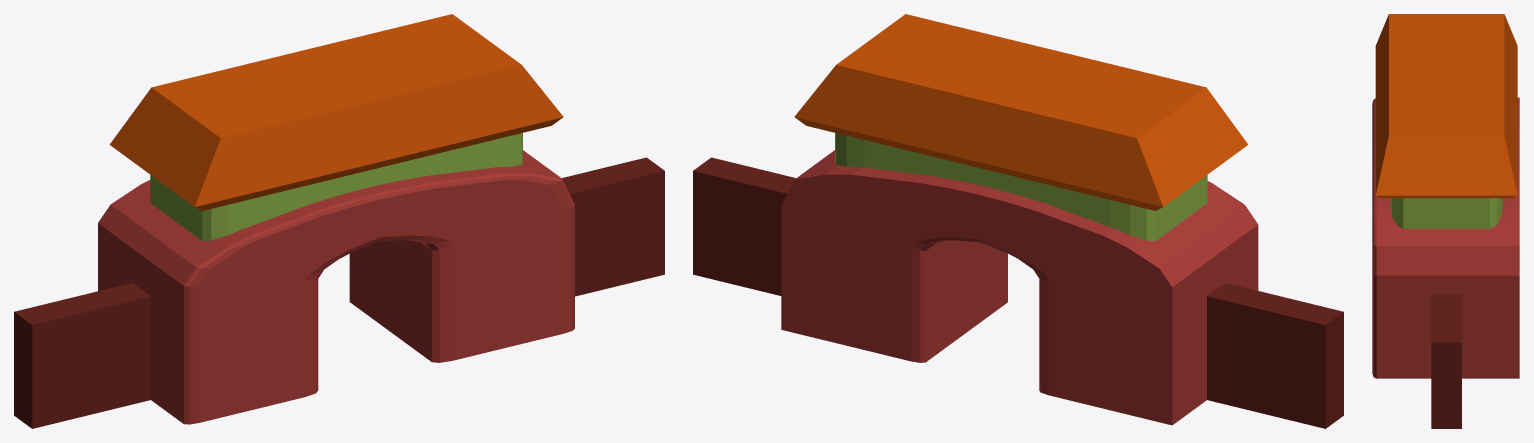
The model's file is temple-entrance.glb.
3 views of the same model, side by side, from view 1: azimuth 30°, elevation 25°; view 2: azimuth 150°, elevation 25°; view 3: azimuth 270°, elevation 25° (orthographic). The views are drawn at different scales.
Visible parts, largest first — view 1: Cube.004, Cube.003, Cube.001, Cube.005, Cube.002; view 2: Cube.004, Cube.003, Cube.001, Cube.005, Cube.002; view 3: Cube.003, Cube.004, Cube.005, Cube.002.
Boxes of the visible parts, x1,y1,x2,y2 form: Cube.004: [98, 150, 574, 424]; Cube.003: [109, 14, 563, 210]; Cube.001: [14, 283, 150, 428]; Cube.005: [562, 157, 664, 296]; Cube.002: [150, 133, 522, 241]; Cube.004: [781, 150, 1258, 425]; Cube.003: [794, 14, 1248, 210]; Cube.001: [1207, 283, 1343, 428]; Cube.005: [693, 157, 795, 295]; Cube.002: [835, 133, 1207, 241]; Cube.003: [1375, 14, 1517, 198]; Cube.004: [1372, 97, 1519, 378]; Cube.005: [1431, 294, 1461, 428]; Cube.002: [1390, 198, 1502, 228].
Bounding box in the file's own units: 31.89 × 12.99 × 7.74.
